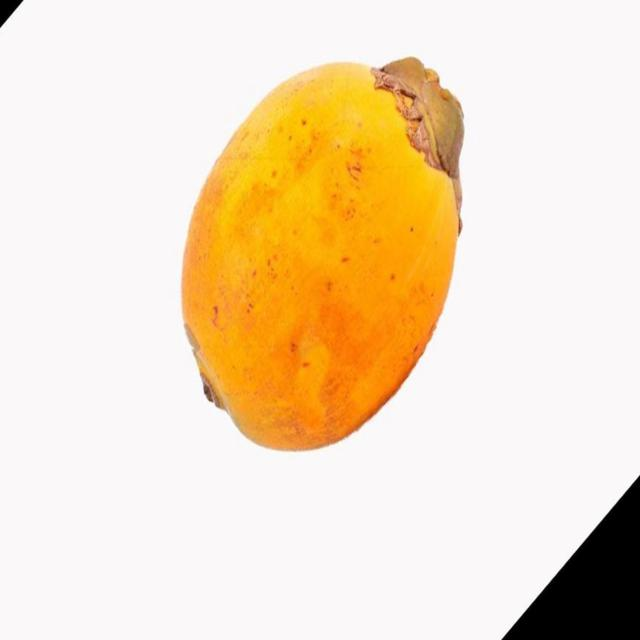good: (179, 58, 464, 455)
